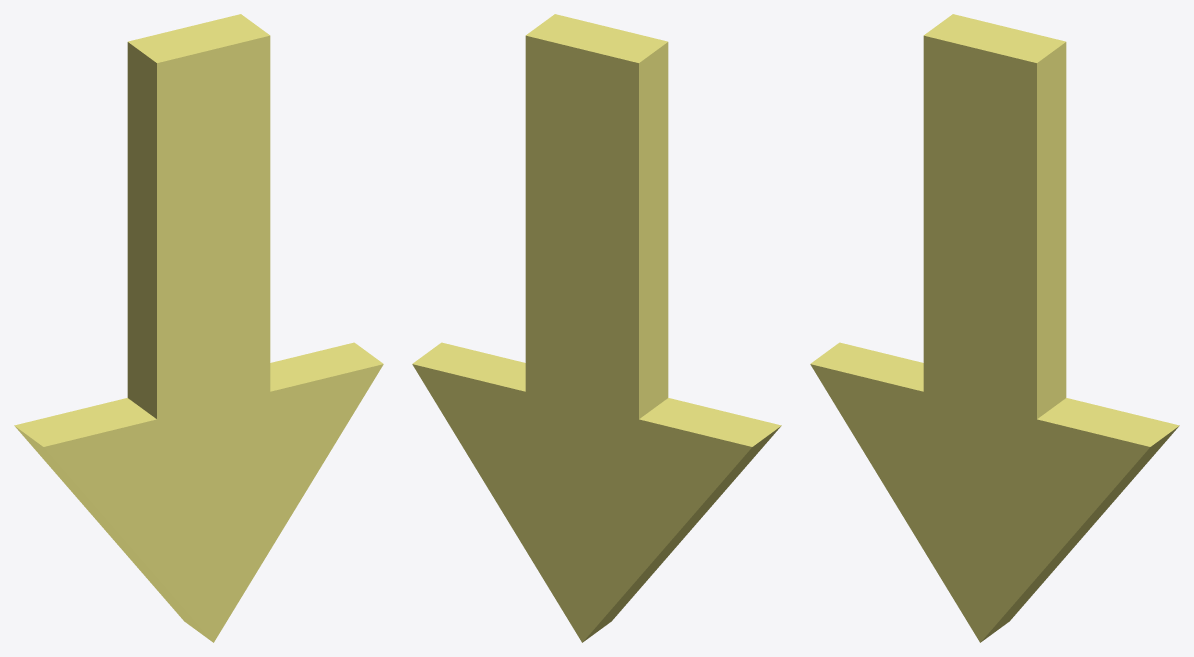
File: Flag-Goal-Arrow.FBX
3 renders of one model, left to right at view 1: azimuth 30°, elevation 25°; view 2: azimuth 150°, elevation 25°; view 3: azimuth 330°, elevation 25°, orthographic.
Visible parts, largest first — view 1: Flag-Goal-Arrow; view 2: Flag-Goal-Arrow; view 3: Flag-Goal-Arrow.
Boxes of the visible parts, x1,y1,x2,y2 form: Flag-Goal-Arrow: (14,14,383,642); Flag-Goal-Arrow: (412,14,781,642); Flag-Goal-Arrow: (810,14,1179,642).
Size of the model in its own units: 30 by 50 by 4.5.
